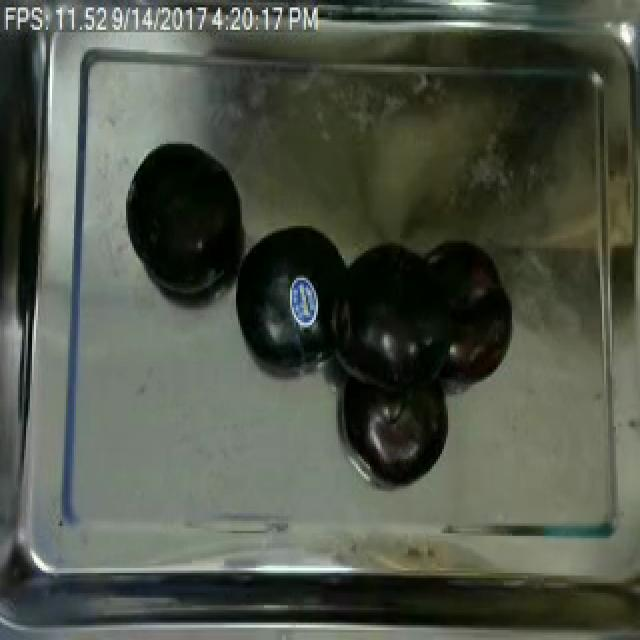Fruit: (120, 132, 254, 300), (284, 270, 324, 335)
